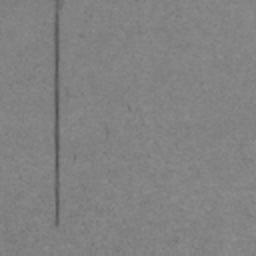Scratches: (53, 0, 63, 227)
